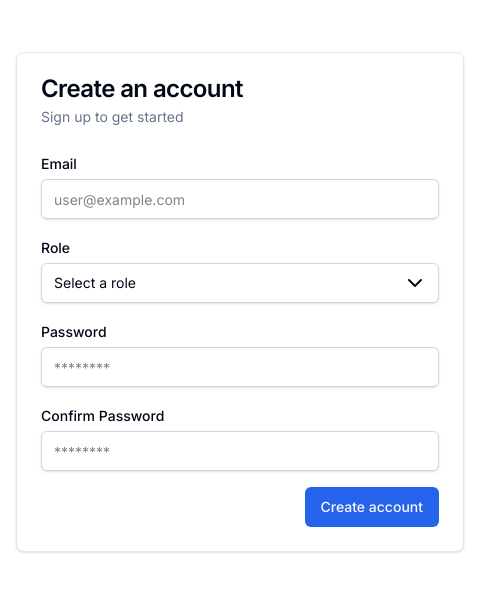
it: Signup Page › shows error messages for empty fields on submit
The image size is (481, 606).
Click the button "Create account": (372, 507) [304,487,439,527]
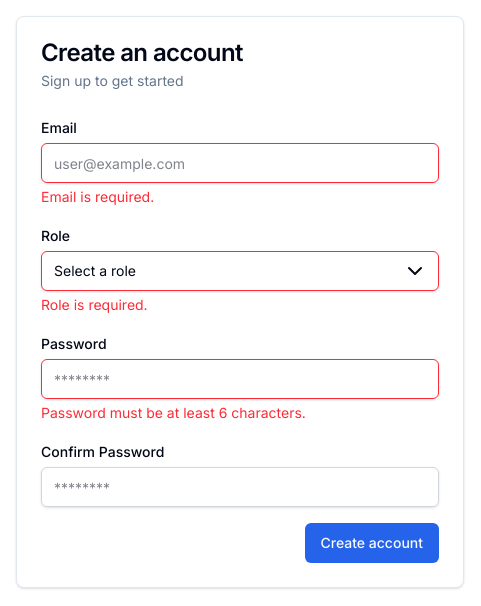
Now the text "Email is required." is shown, box [41,188,154,205]
Now the text "Role is required." is shown, box [41,296,148,313]
Now the text "Password must be at least 6 characters." is shown, box [41,404,306,421]
